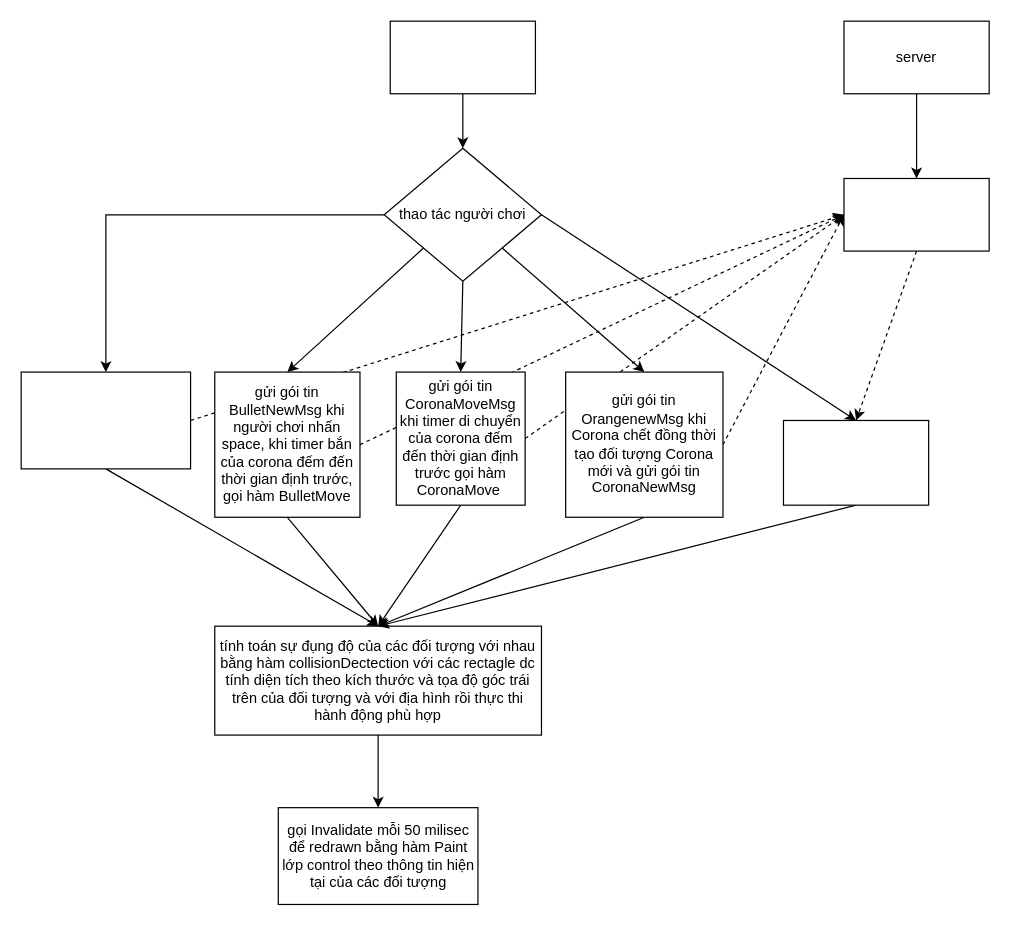
The diagram is 1010 pixels wide and 926 high, and some of its shapes have lost their labels. The shapes that lost their labels are listed below. From the top down, each one's centre as x and y in pixels, then its label:
At point (462, 57): "client".
At point (916, 214): "nhận các gói tin và chuyển tiếp đến các client khác".
At point (105, 420): "gửi gói tin TankMoveMsg khi người chơi di chuyển tank, gọi hàm TankMove".
At point (855, 462): "nhận các gói tin từ server và cập nhật lại thông tin các đối tượng".
